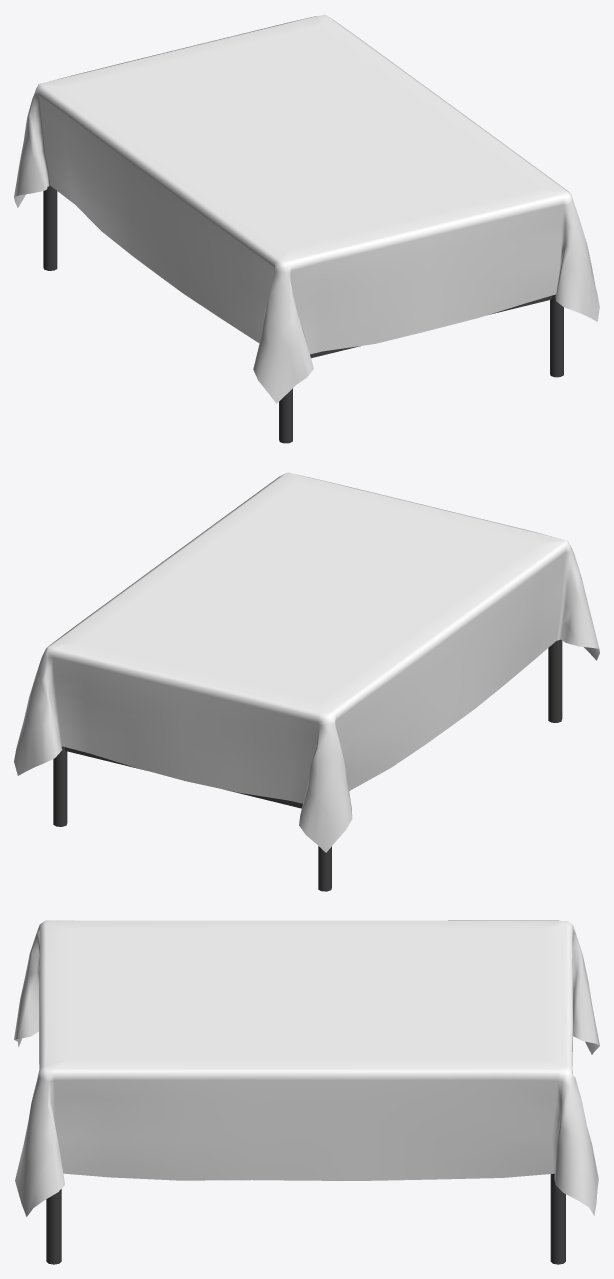
Rendered from pi_table01_01_03_dlc2.gltf.
The picture shows the model from 3 angles, top to bottom: view 1: azimuth 30°, elevation 25°; view 2: azimuth 150°, elevation 25°; view 3: azimuth 270°, elevation 25°; orthographic projection. The views are drawn at different scales.
Visible parts, largest first — view 1: nomerge_pi_table01_01_03_dlc2_mesh_shape:pi_tabel01_cloth01_, um_pi_table01_01_03_dlc2_model_lod0Shape:pi_tabel01_01; view 2: nomerge_pi_table01_01_03_dlc2_mesh_shape:pi_tabel01_cloth01_, um_pi_table01_01_03_dlc2_model_lod0Shape:pi_tabel01_01; view 3: nomerge_pi_table01_01_03_dlc2_mesh_shape:pi_tabel01_cloth01_, um_pi_table01_01_03_dlc2_model_lod0Shape:pi_tabel01_01.
Boxes of the visible parts, x1,y1,x2,y2 form: nomerge_pi_table01_01_03_dlc2_mesh_shape:pi_tabel01_cloth01_: (14, 14, 599, 403); um_pi_table01_01_03_dlc2_model_lod0Shape:pi_tabel01_01: (43, 185, 563, 443); nomerge_pi_table01_01_03_dlc2_mesh_shape:pi_tabel01_cloth01_: (14, 472, 599, 852); um_pi_table01_01_03_dlc2_model_lod0Shape:pi_tabel01_01: (53, 639, 562, 891); nomerge_pi_table01_01_03_dlc2_mesh_shape:pi_tabel01_cloth01_: (14, 920, 599, 1216); um_pi_table01_01_03_dlc2_model_lod0Shape:pi_tabel01_01: (46, 1173, 565, 1264).
Size of what is drawn, in the model's own units: 1.5 by 0.76 by 2.06.
Materials: 3 (1 with a texture image).
